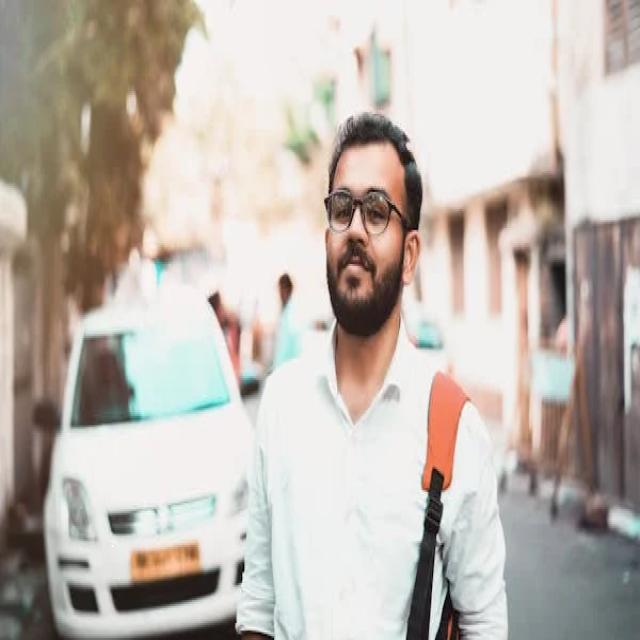Real human 2: (233, 91, 532, 640)
